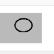no answer: (12, 16, 34, 35)
